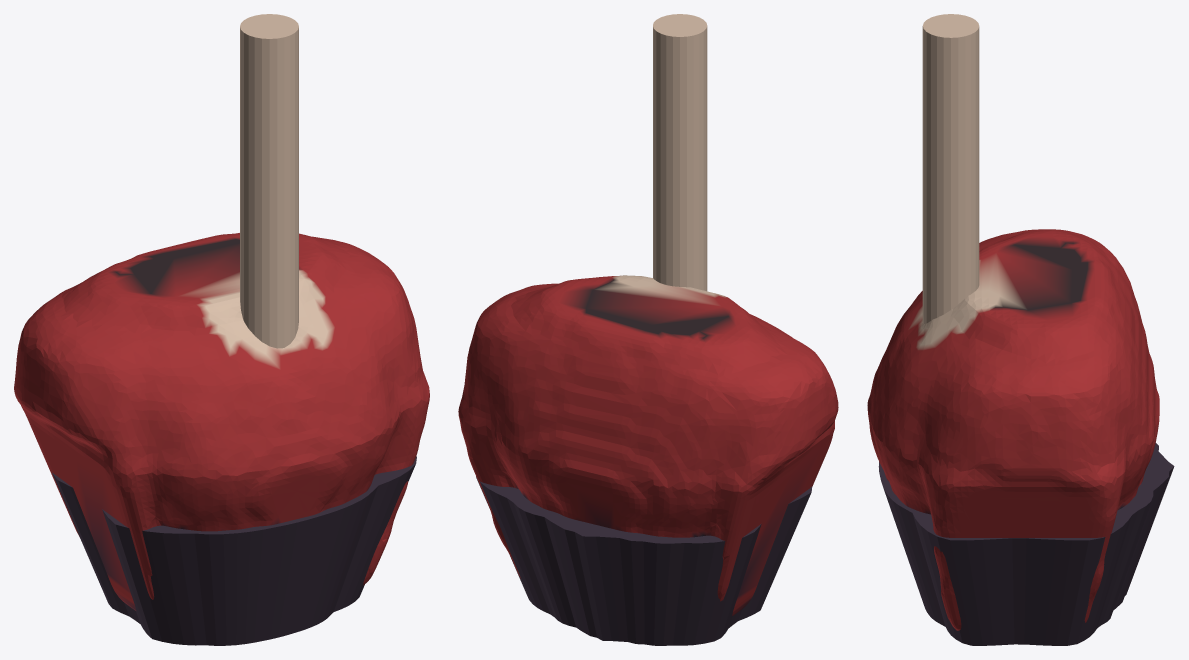
File: torso.glb
The picture shows the model from 3 angles, left to right: view 1: azimuth 30°, elevation 25°; view 2: azimuth 150°, elevation 25°; view 3: azimuth 270°, elevation 25°; orthographic projection. The views are drawn at different scales.
Parts seen in each view (by area): view 1: geometry_0; view 2: geometry_0; view 3: geometry_0.
Boxes of the visible parts, x1=… form: geometry_0: x1=14, y1=14, x2=429, y2=645; geometry_0: x1=458, y1=14, x2=838, y2=645; geometry_0: x1=867, y1=14, x2=1174, y2=645.
Bounding box in the file's own units: 0.4751 × 0.7524 × 0.3657.
